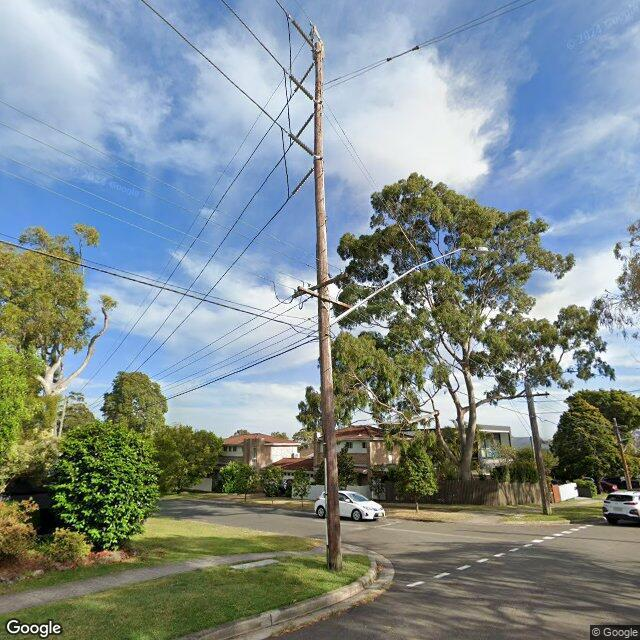HV-transmission: (281, 13, 323, 200)
crossarm: (292, 273, 348, 299), (298, 285, 354, 309), (515, 392, 549, 398)
streetlight: (330, 247, 489, 326)
timber-pole: (313, 41, 342, 571), (524, 381, 552, 515), (613, 418, 632, 490)
